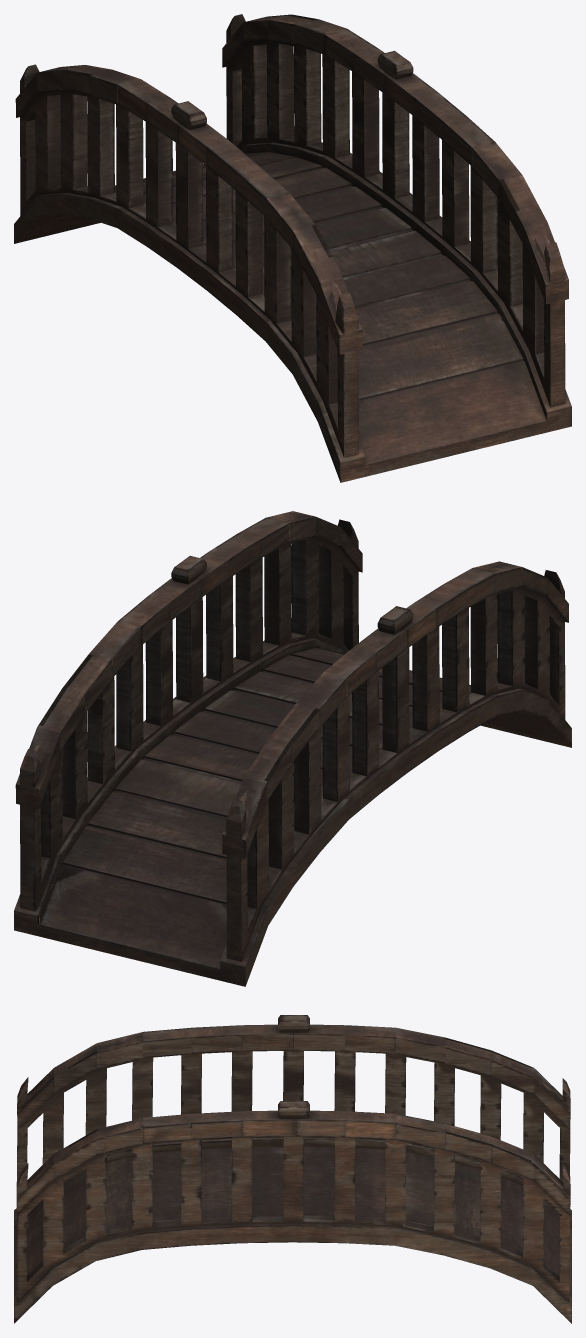
The picture shows the model from 3 angles, top to bottom: view 1: azimuth 30°, elevation 25°; view 2: azimuth 150°, elevation 25°; view 3: azimuth 270°, elevation 25°; orthographic projection. The views are drawn at different scales.
Parts seen in each view (by area): view 1: BRIDGE; view 2: BRIDGE; view 3: BRIDGE.
Part boxes in pixels (x1,y1,x2,y2): BRIDGE: (14,14,571,482); BRIDGE: (14,511,571,986); BRIDGE: (14,1015,571,1323).
Bounding box in the file's own units: 3.74 × 3.88 × 9.15.
Materials: 1 (1 with a texture image).
